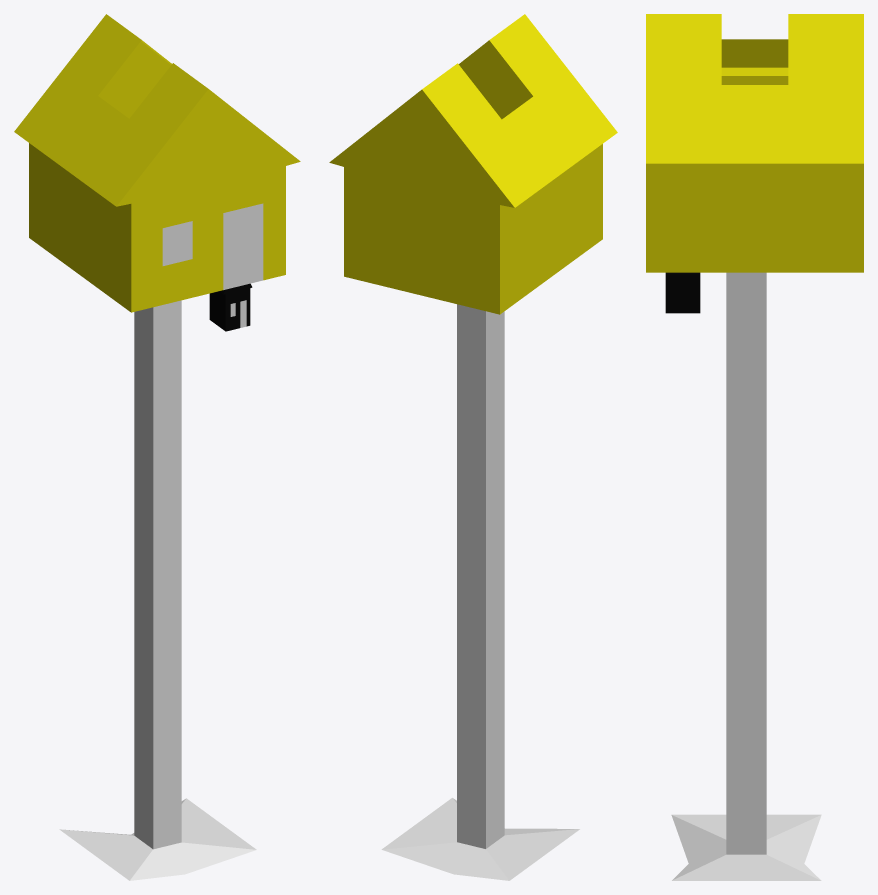
The model's file is TallLamp.fbx.
The picture shows the model from 3 angles, left to right: view 1: azimuth 30°, elevation 25°; view 2: azimuth 150°, elevation 25°; view 3: azimuth 270°, elevation 25°; orthographic projection. The views are drawn at different scales.
Visible parts, largest first — view 1: Cube.251; view 2: Cube.251; view 3: Cube.251.
Part boxes in pixels (left/top/right/bottom): Cube.251: left=14, top=14, right=300, bottom=880; Cube.251: left=329, top=14, right=617, bottom=880; Cube.251: left=646, top=14, right=863, bottom=880.
Bounding box in the file's own units: 198 × 818 × 190.
